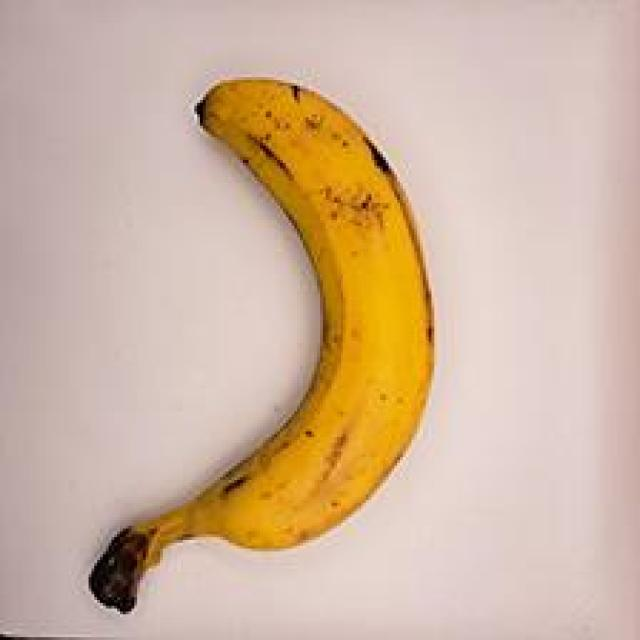Overripe: (73, 56, 462, 628)
